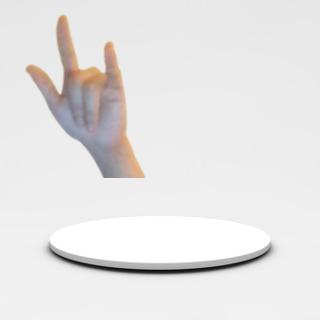ILY: (18, 11, 133, 149)
